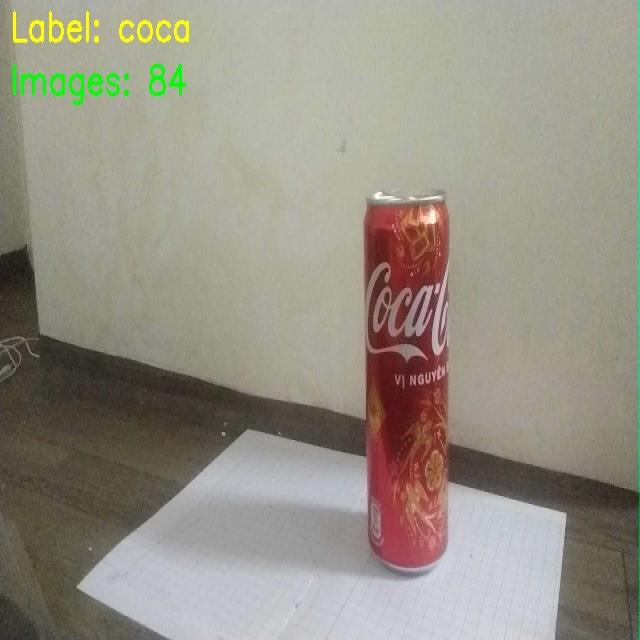Coca: (341, 168, 482, 583)
